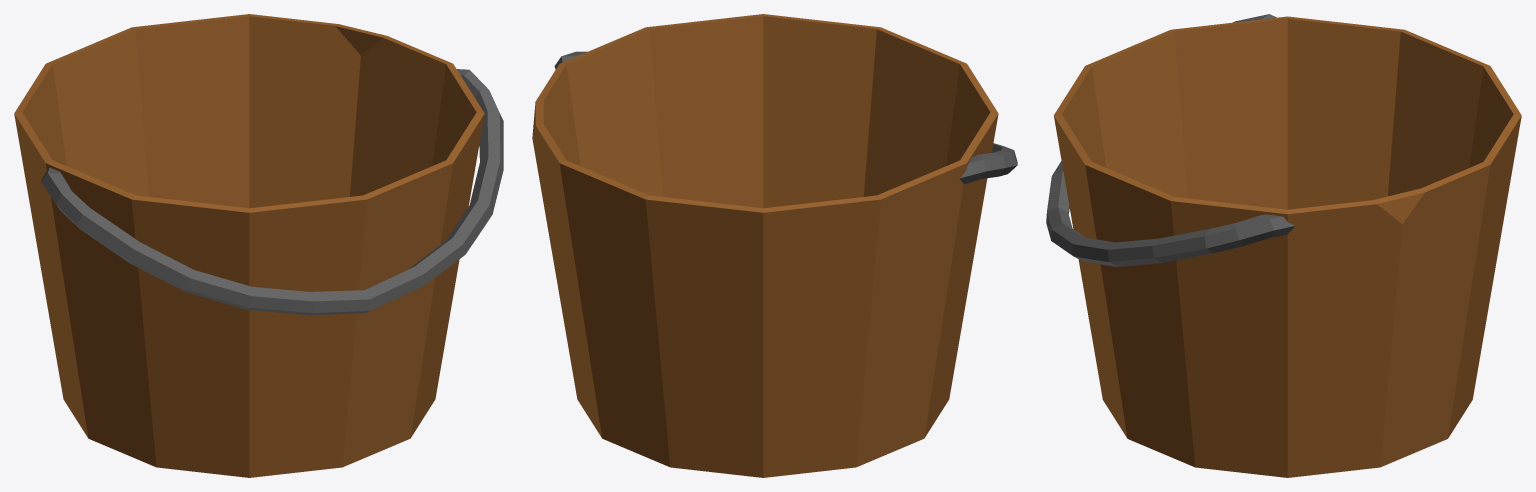
Rendered from Bucket_01.fbx.
The picture shows the model from 3 angles, left to right: view 1: azimuth 30°, elevation 25°; view 2: azimuth 150°, elevation 25°; view 3: azimuth 270°, elevation 25°; orthographic projection.
Visible parts, largest first — view 1: Bucket_01; view 2: Bucket_01; view 3: Bucket_01.
Part boxes in pixels (x1,y1,x2,y2): Bucket_01: (14,14,503,477); Bucket_01: (532,14,1017,477); Bucket_01: (1046,14,1521,477).
Bounding box in the file's own units: 61.53 × 38.72 × 58.45.
